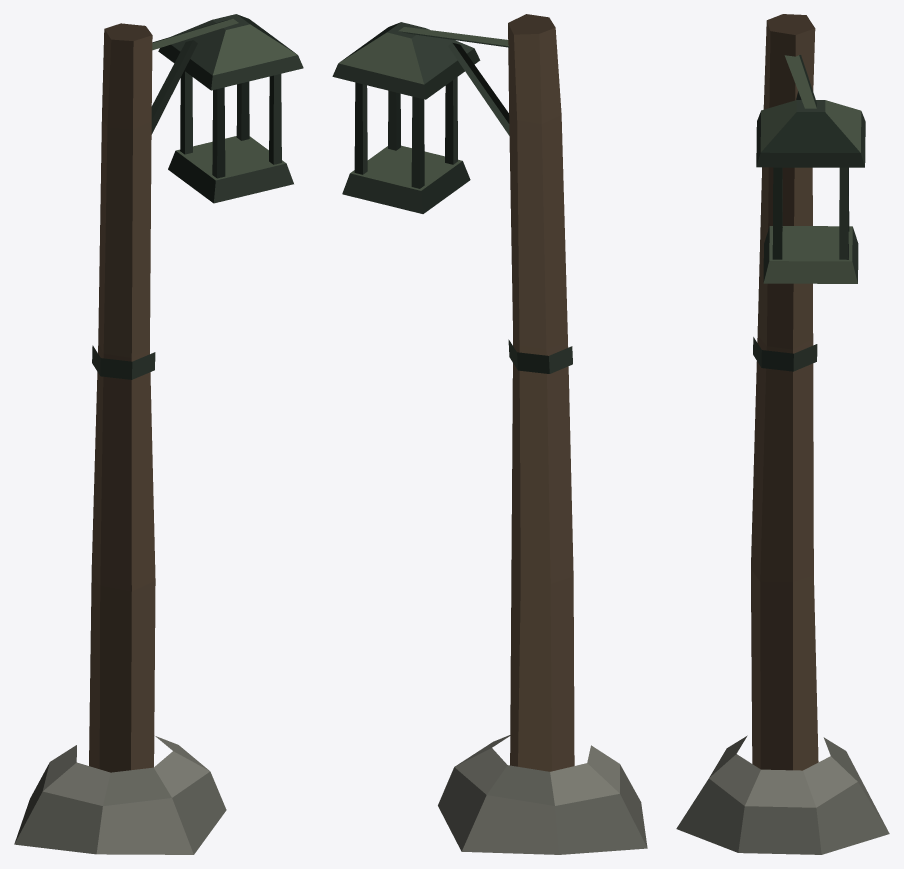
Rendered from lamp-post.glb.
The picture shows the model from 3 angles, left to right: view 1: azimuth 30°, elevation 25°; view 2: azimuth 150°, elevation 25°; view 3: azimuth 270°, elevation 25°; orthographic projection.
Visible parts, largest first — view 1: Lamp_Post; view 2: Lamp_Post; view 3: Lamp_Post.
Part boxes in pixels (x1,y1,x2,y2): Lamp_Post: (14,14,303,854); Lamp_Post: (332,14,647,854); Lamp_Post: (676,14,889,854).
Bounding box in the file's own units: 0.7963 × 2.18 × 0.5275.
1 material, 1 textured.
